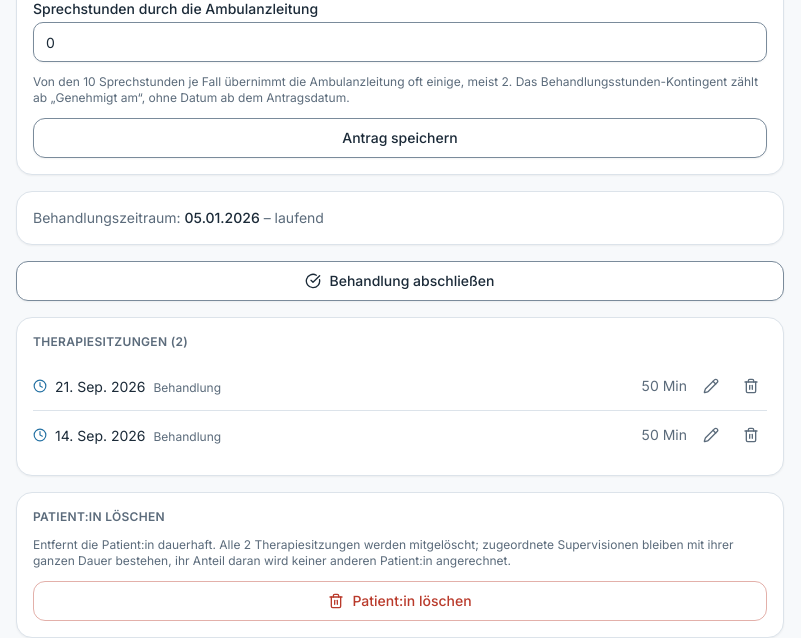
Scenario: PatientDetailClient › zeigt den Fehler beim Löschen der Patient:in in der Karte der Aktion, nicht oben auf der Seite
(page scrolled)
Click the button "Patient:in löschen".
click(400, 601)  # box [33, 581, 767, 621]
(page scrolled)
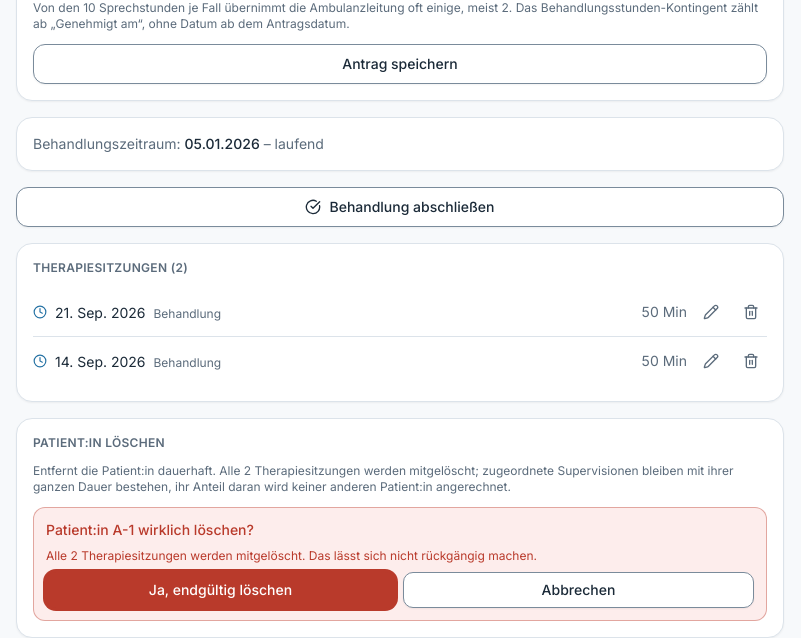
Click the button "Ja, endgültig löschen".
click(220, 590)  # box [46, 572, 395, 608]
(page scrolled)
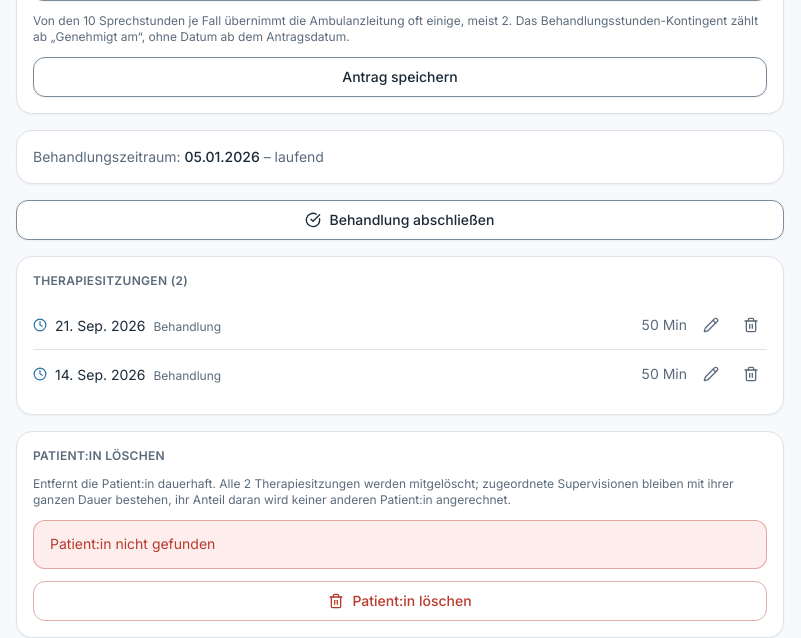
Check: the message reads "Patient:in nicht gefunden", box [50, 535, 215, 552]
Check: the button "Patient:in löschen" is enabled, box [33, 581, 767, 621]
